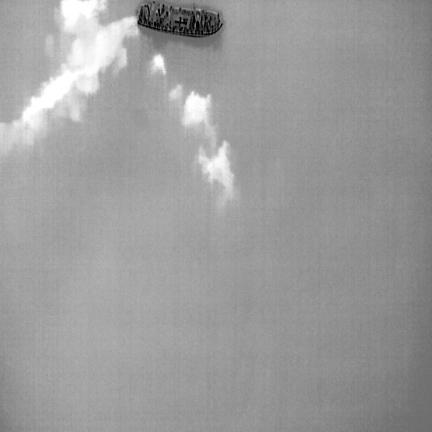flukeprints: (198, 141, 234, 198), (182, 91, 215, 147), (151, 54, 165, 74), (169, 84, 182, 101)
